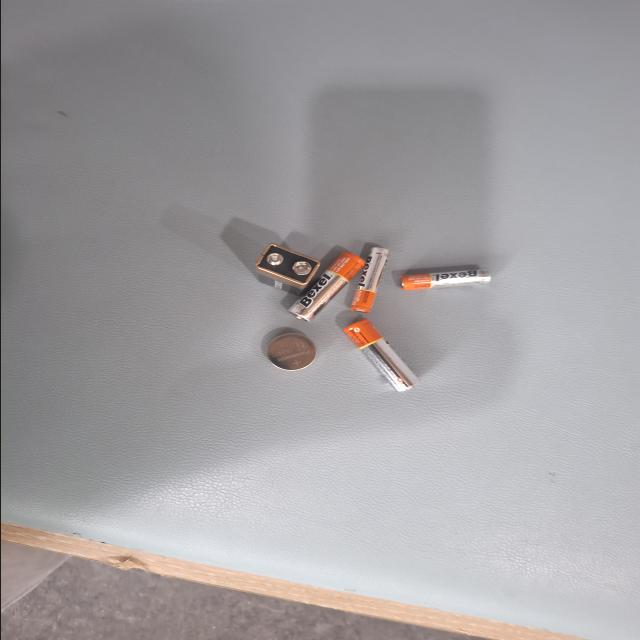9V: (256, 190, 316, 240)
AA: (210, 216, 304, 274), (121, 257, 217, 313)
AAA: (224, 262, 310, 290), (253, 301, 283, 367)
COIN: (146, 198, 197, 236)
